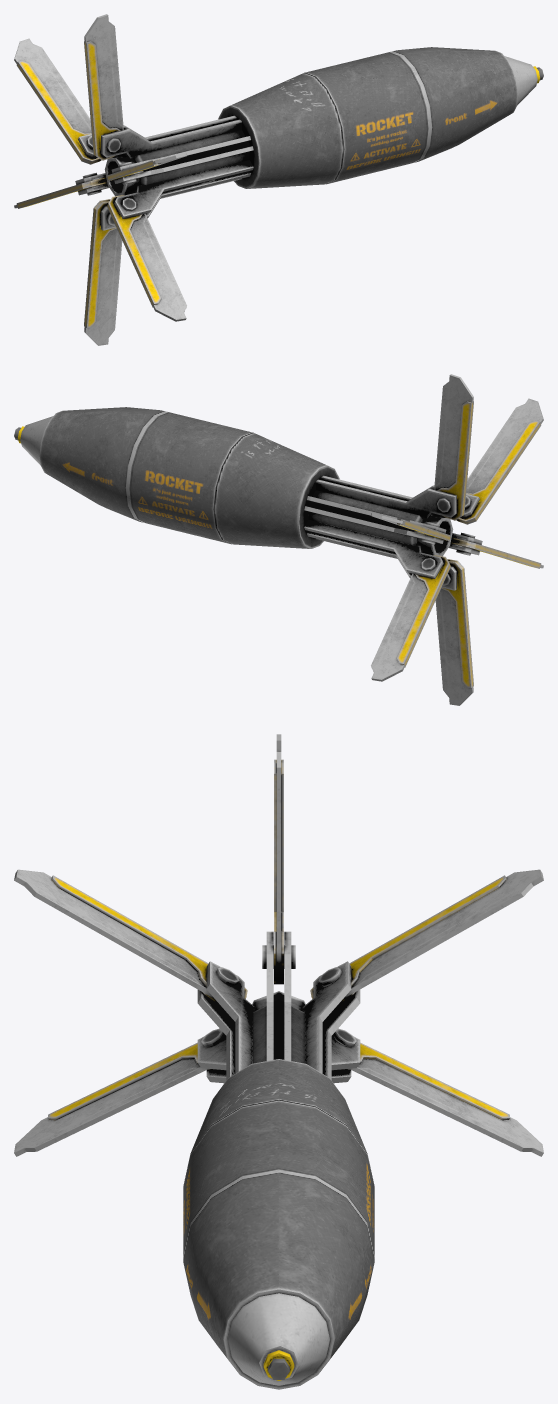
Rendered from SM_RocketProjectileOpen.fbx.
3 renders of one model, top to bottom at view 1: azimuth 30°, elevation 25°; view 2: azimuth 150°, elevation 25°; view 3: azimuth 270°, elevation 25°, orthographic. The views are drawn at different scales.
Visible parts, largest first — view 1: MeshRocketOpen; view 2: MeshRocketOpen; view 3: MeshRocketOpen.
Boxes of the visible parts, x1,y1,x2,y2 form: MeshRocketOpen: (14,14,543,345); MeshRocketOpen: (14,374,543,705); MeshRocketOpen: (14,734,543,1389).
Bounding box in the file's own units: 31.92 × 19.17 × 22.04.
1 material, 1 textured.
